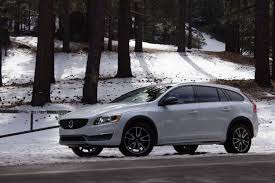car: (58, 82, 259, 156)
